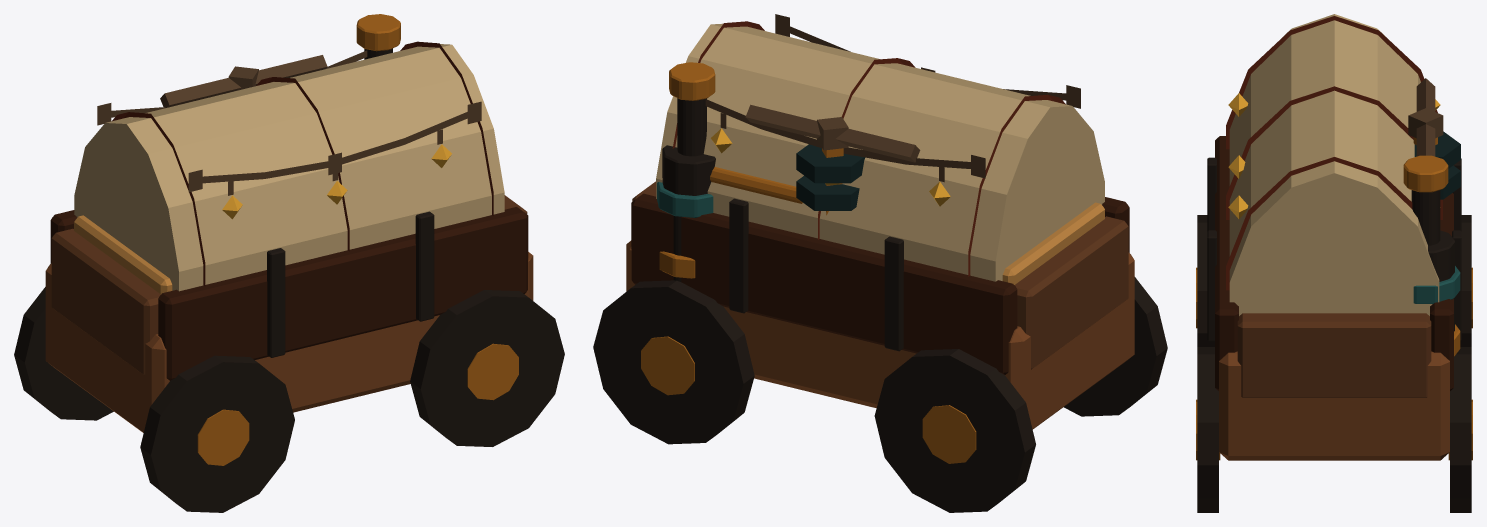
Rendered from covered_wagon.e3.glb.
3 renders of one model, left to right at view 1: azimuth 30°, elevation 25°; view 2: azimuth 150°, elevation 25°; view 3: azimuth 270°, elevation 25°, orthographic. The views are drawn at different scales.
Visible parts, largest first — view 1: CoveredWagonE3; view 2: CoveredWagonE3; view 3: CoveredWagonE3.
Boxes of the visible parts, x1=… form: CoveredWagonE3: x1=14, y1=14, x2=564, y2=512; CoveredWagonE3: x1=593, y1=14, x2=1167, y2=512; CoveredWagonE3: x1=1196, y1=14, x2=1472, y2=512.
Size of the model in its own units: 1.78 by 1.44 by 1.03.
1 material, 1 textured.
